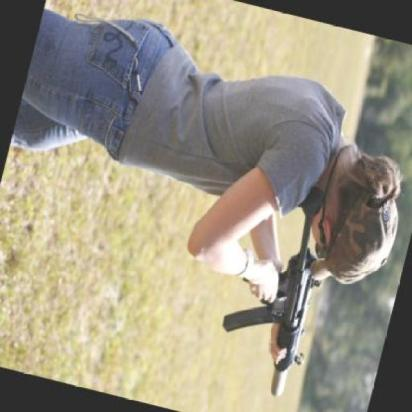Gun: (200, 172, 348, 407)
